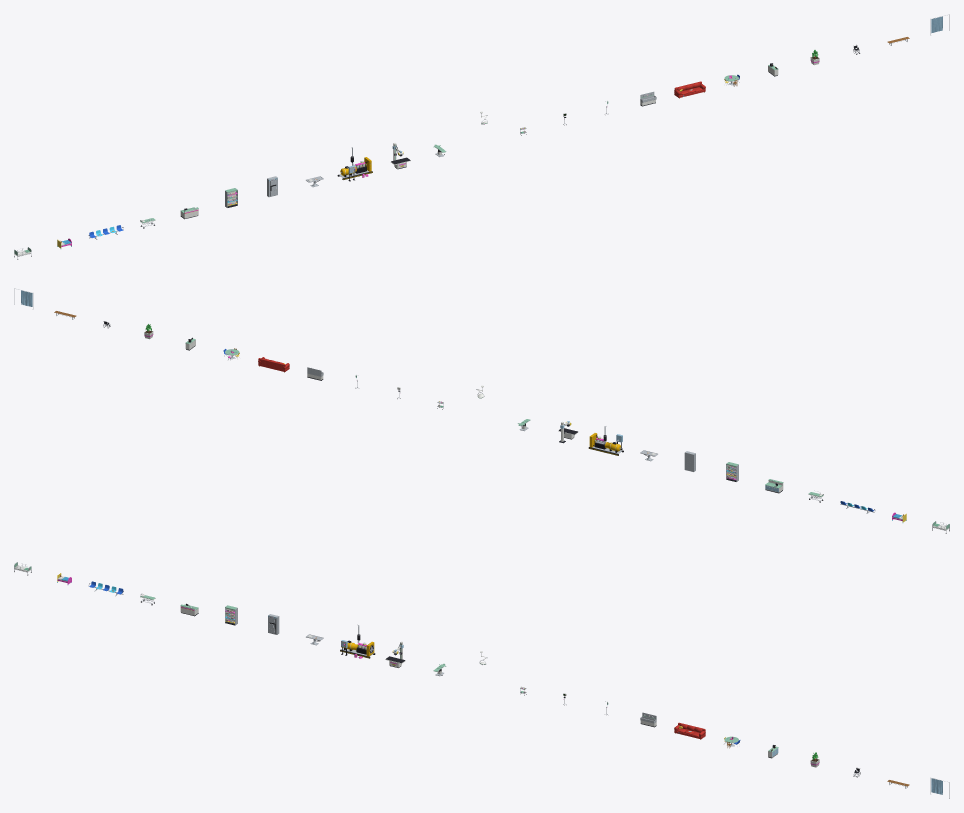
The model's file is p_hospkit.glb.
3 renders of one model, top to bottom at view 1: azimuth 30°, elevation 25°; view 2: azimuth 150°, elevation 25°; view 3: azimuth 330°, elevation 25°, orthographic.
Parts seen in each view (by area): view 1: no part large enough to name; view 2: generator; view 3: generator.
Boxes of the visible parts, <box> form: generator: <box>588,426,623,455</box>; generator: <box>340,624,375,658</box>.
Size of the model in its own units: 134 by 4.5 by 2.65.
Materials: 23 (21 with a texture image).
